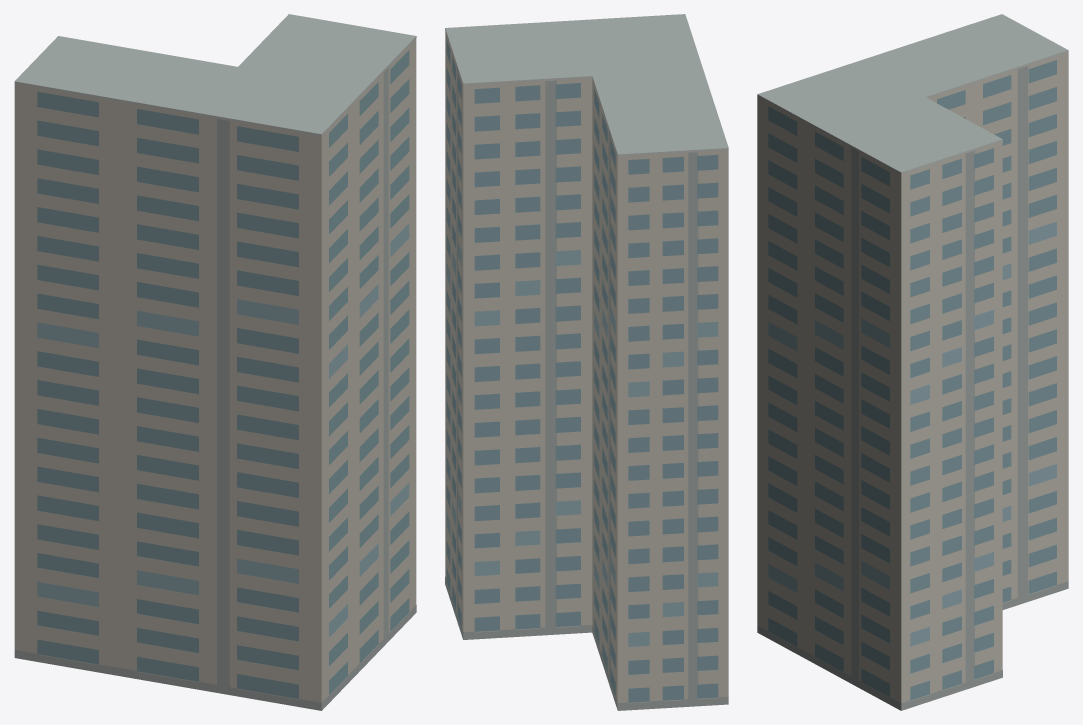
Rendered from residential-9bcc23a8-42c5-4dcd-b043-c2e86c135893.glb.
3 renders of one model, left to right at view 1: azimuth 30°, elevation 25°; view 2: azimuth 150°, elevation 25°; view 3: azimuth 270°, elevation 25°, orthographic. The views are drawn at different scales.
Visible parts, largest first — view 1: residential-9bcc23a8-42c5-4dcd-b043-c2e86c135893.tmp; view 2: residential-9bcc23a8-42c5-4dcd-b043-c2e86c135893.tmp; view 3: residential-9bcc23a8-42c5-4dcd-b043-c2e86c135893.tmp.
Boxes of the visible parts, bbox=[...] form: residential-9bcc23a8-42c5-4dcd-b043-c2e86c135893.tmp: bbox=[14, 14, 416, 710]; residential-9bcc23a8-42c5-4dcd-b043-c2e86c135893.tmp: bbox=[445, 14, 728, 710]; residential-9bcc23a8-42c5-4dcd-b043-c2e86c135893.tmp: bbox=[757, 14, 1068, 710].
Size of the model in its own units: 35.36 by 56 by 29.34.
